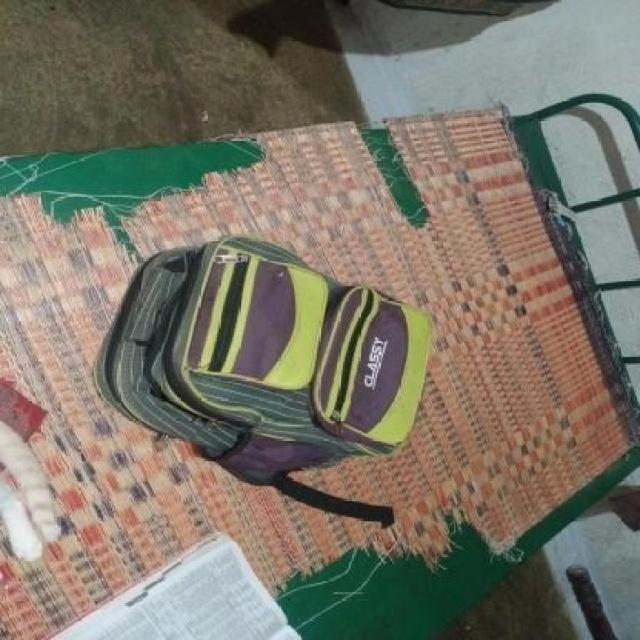backpack: (89, 234, 437, 489)
